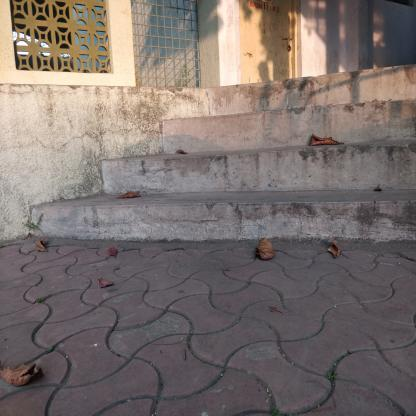stairs: (166, 103, 380, 255)
